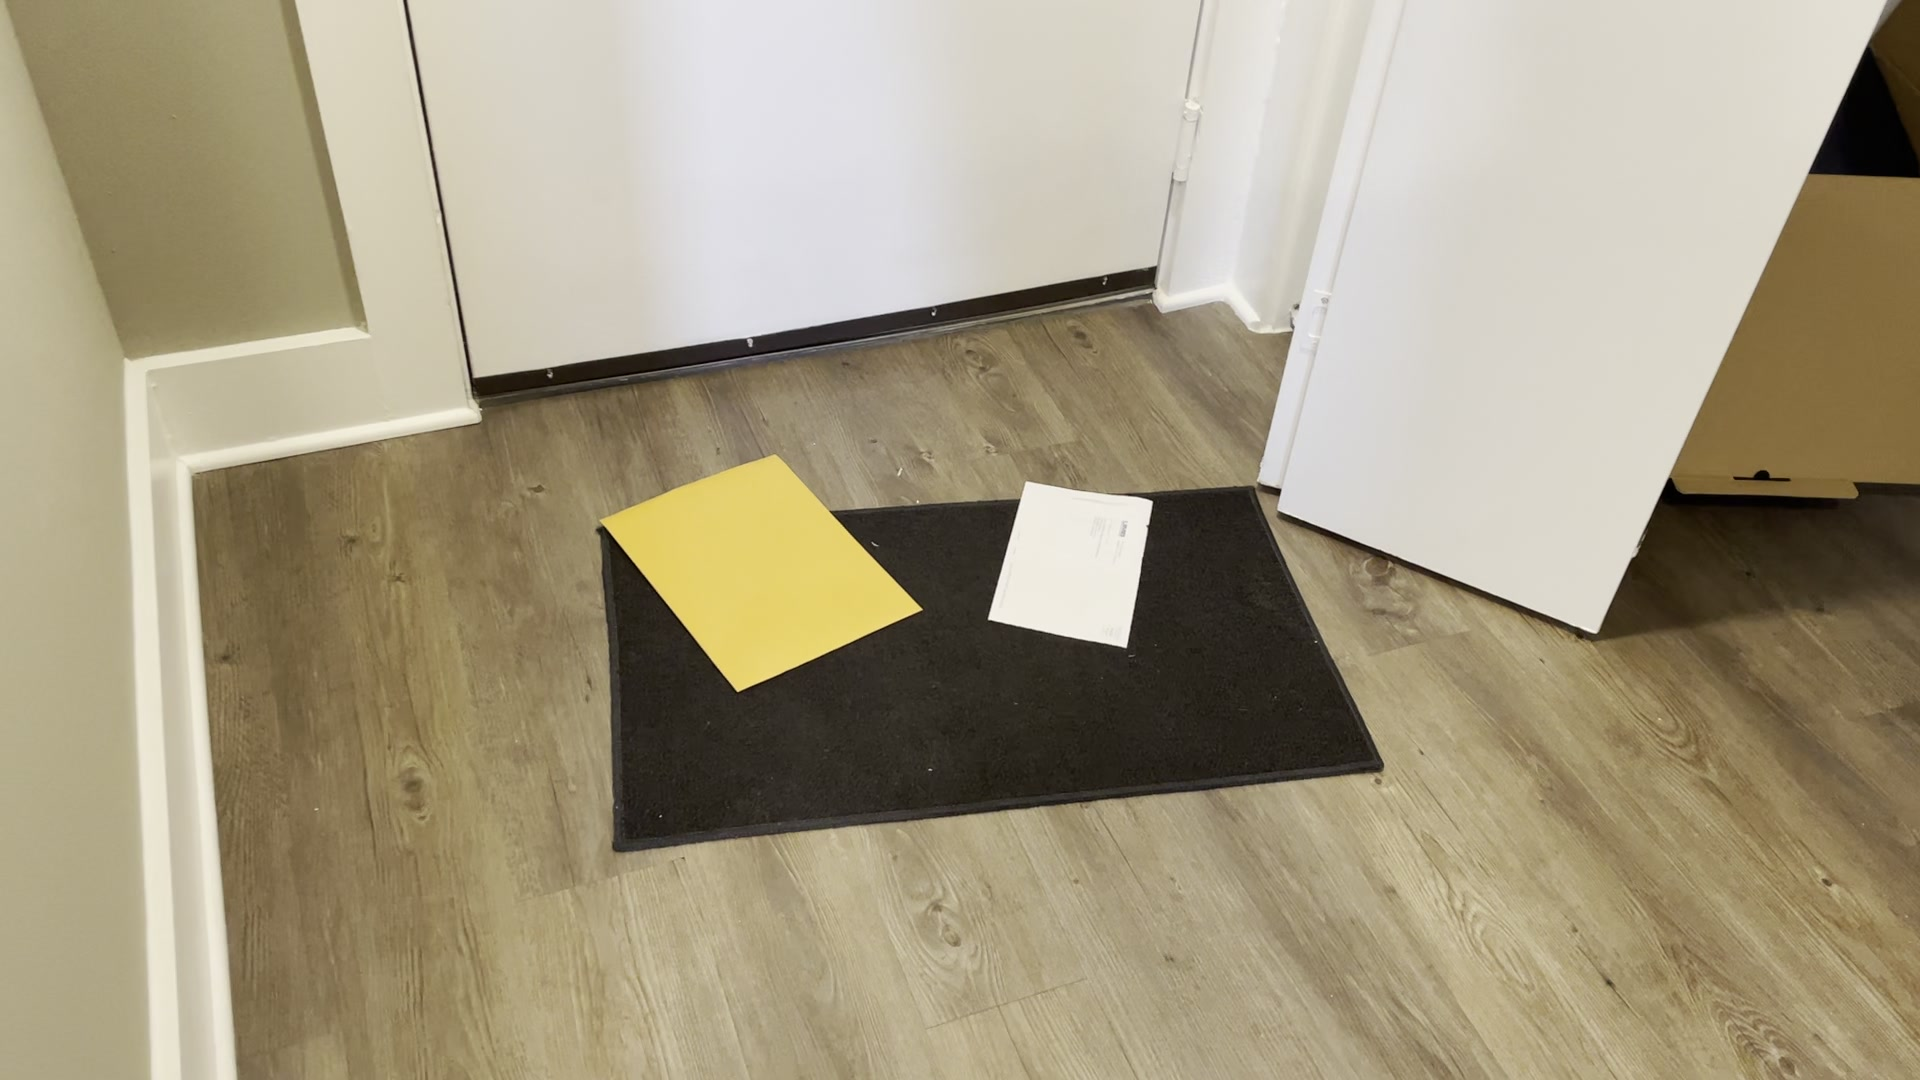envelope: (589, 444, 928, 698), (971, 476, 1166, 649)
